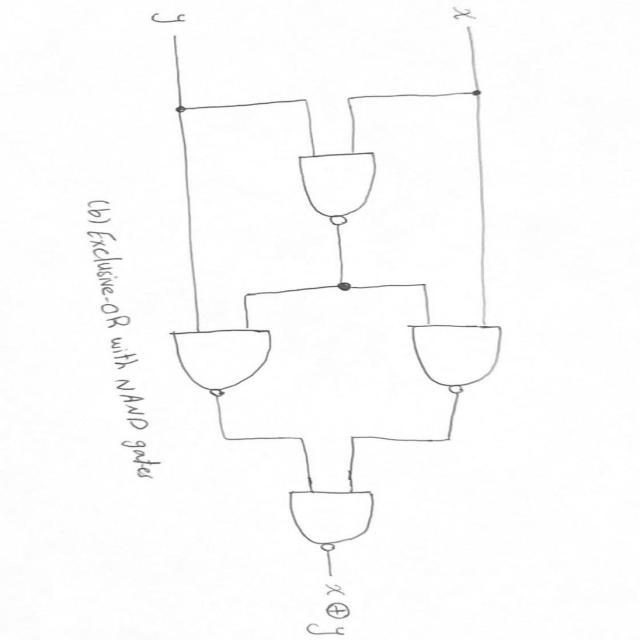NAND: (390, 314, 534, 402), (161, 320, 301, 400), (268, 484, 409, 562), (278, 148, 408, 229)
